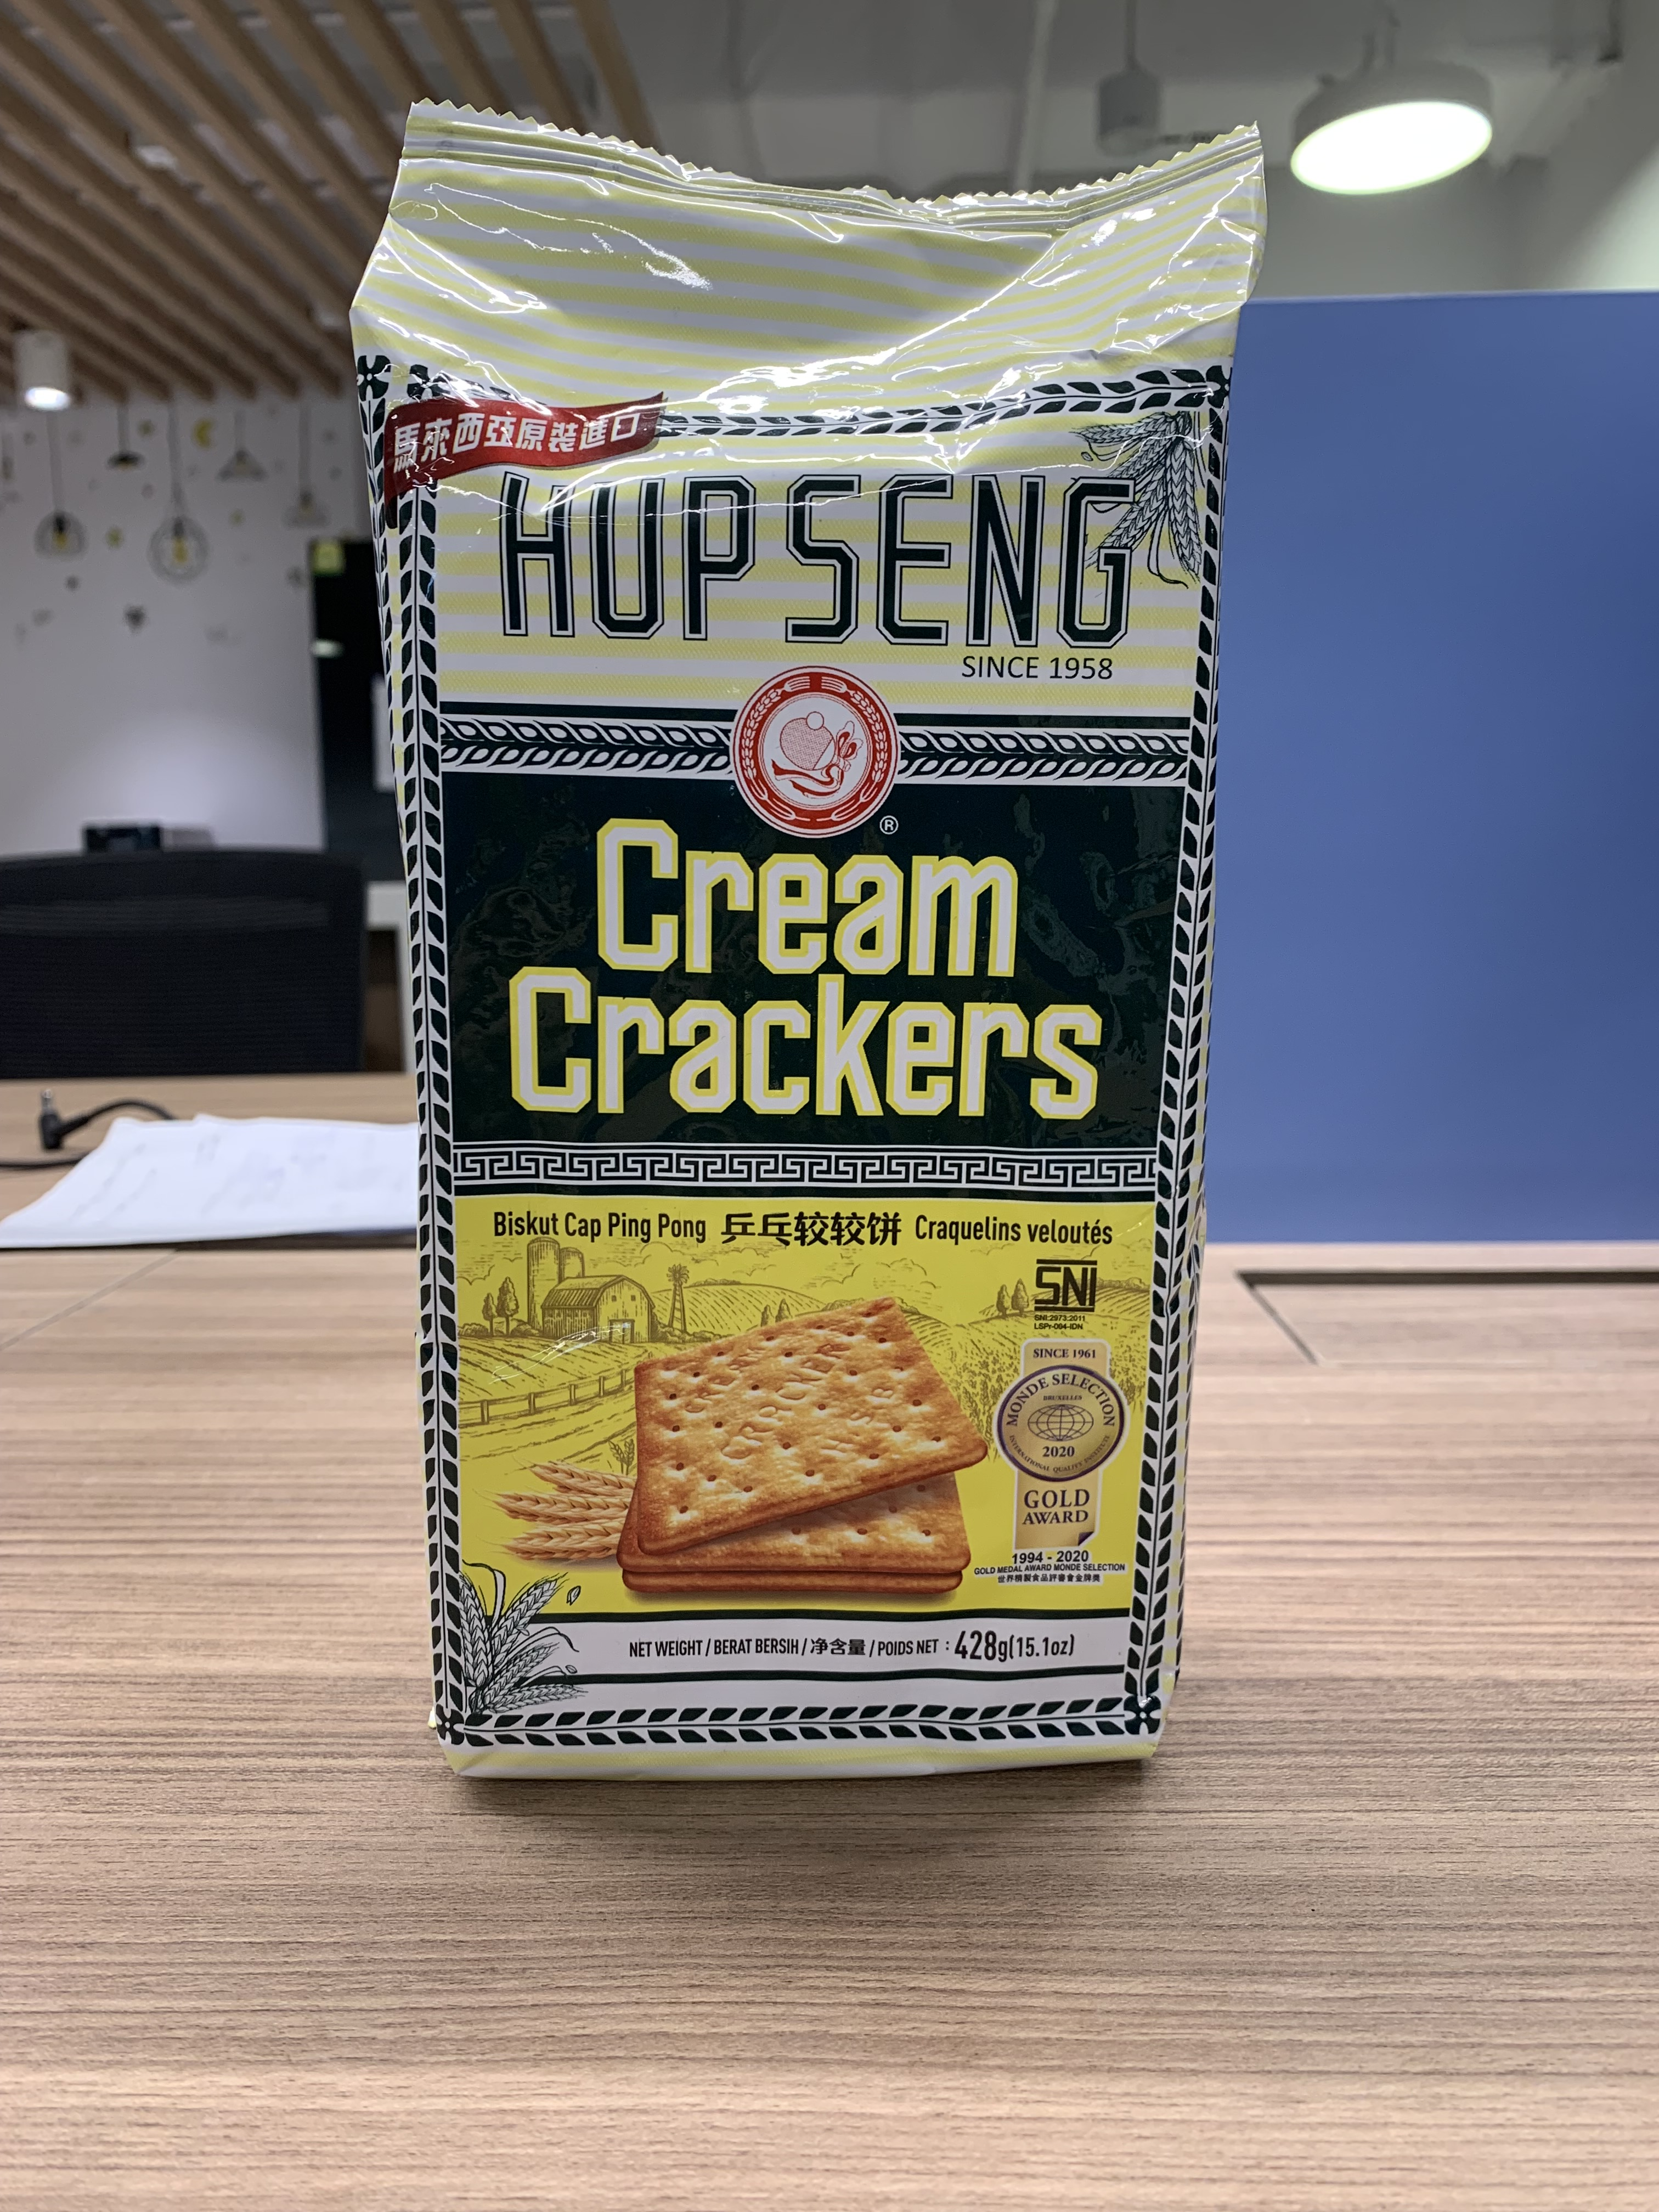crackers_400g-499g: (399, 195, 1168, 1743)
